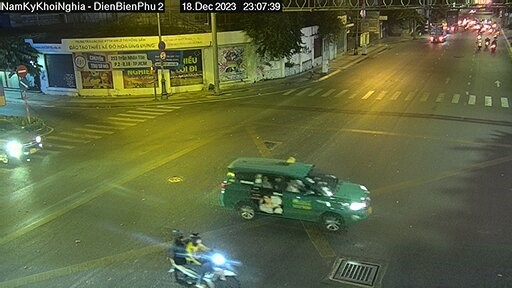car: (218, 139, 380, 229)
motorbike: (158, 224, 247, 288)
